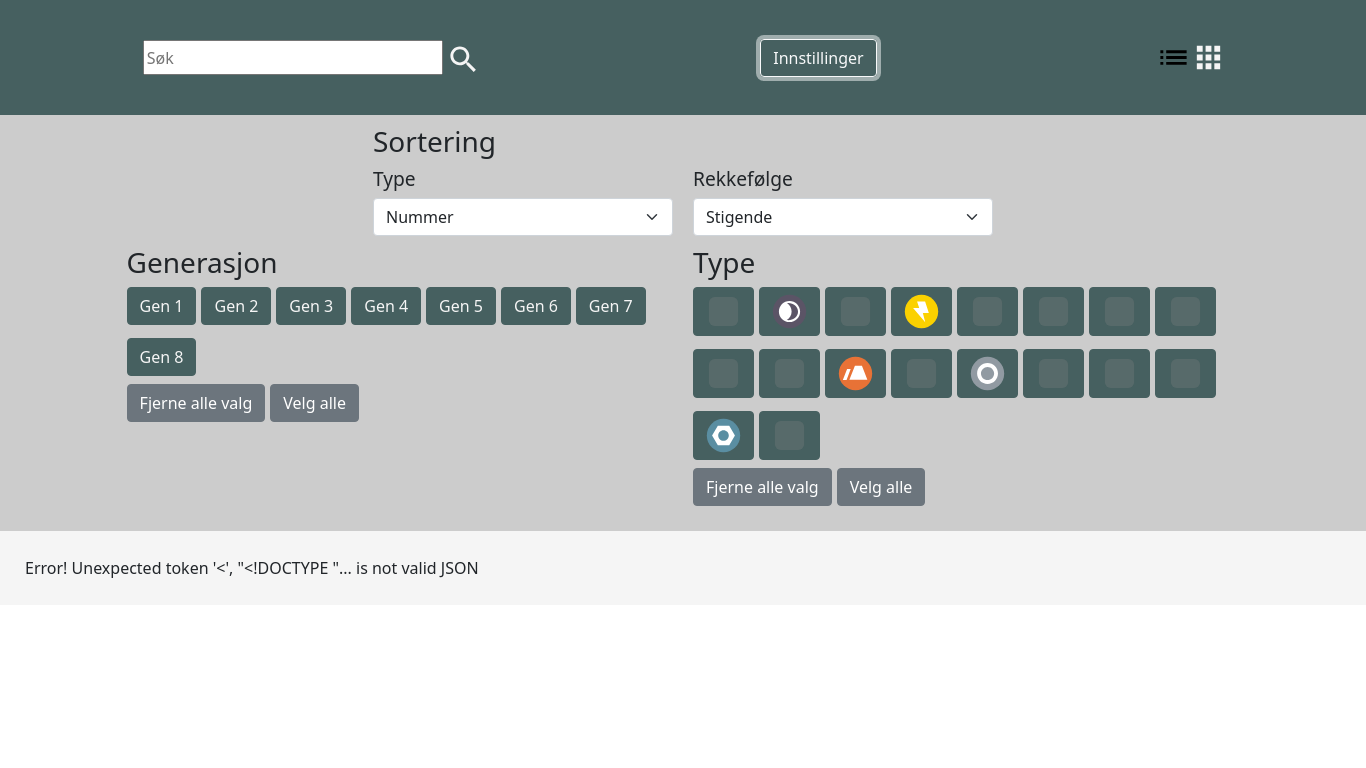
Test: Testing home page › Using options button › can close navbar options
Click the button "Innstillinger": (819, 58) [760,39,877,77]
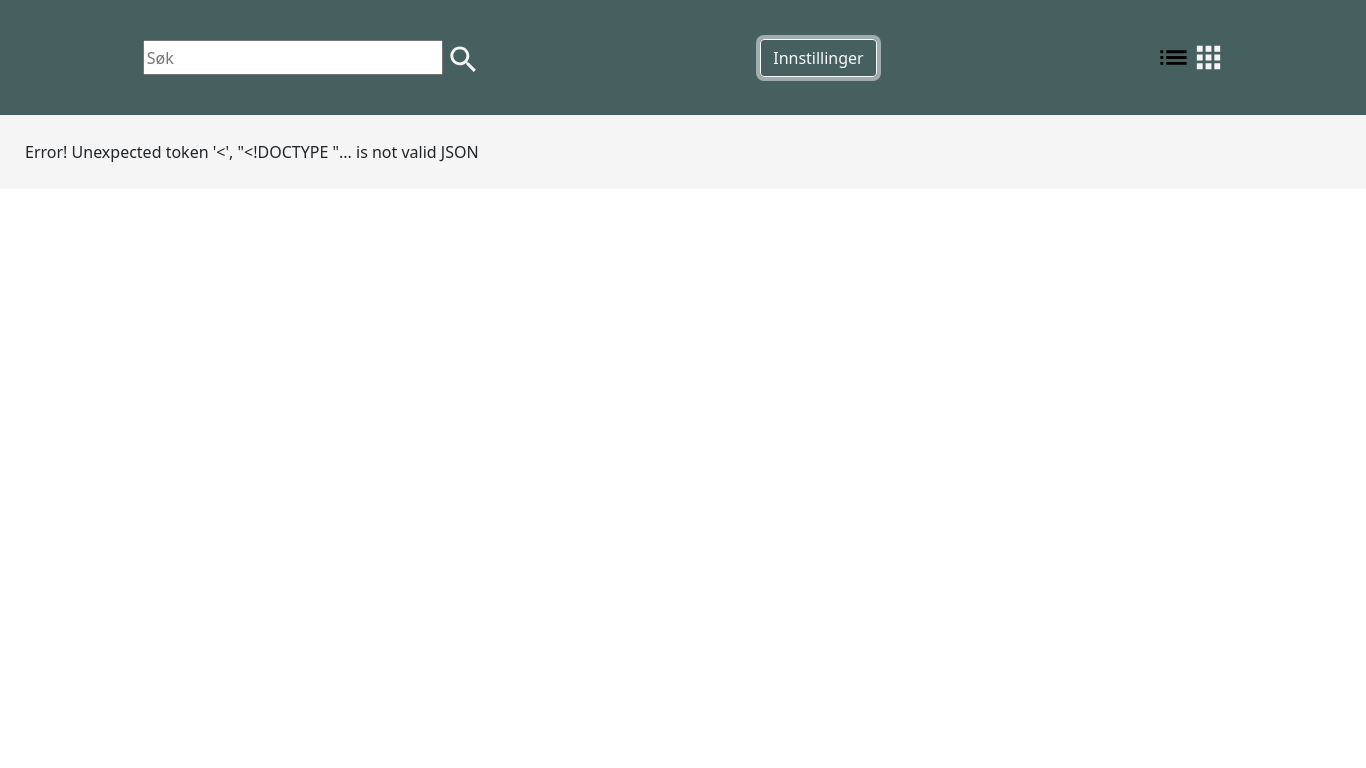
Check: no elements with class "optionsButtonsContainer" are shown
